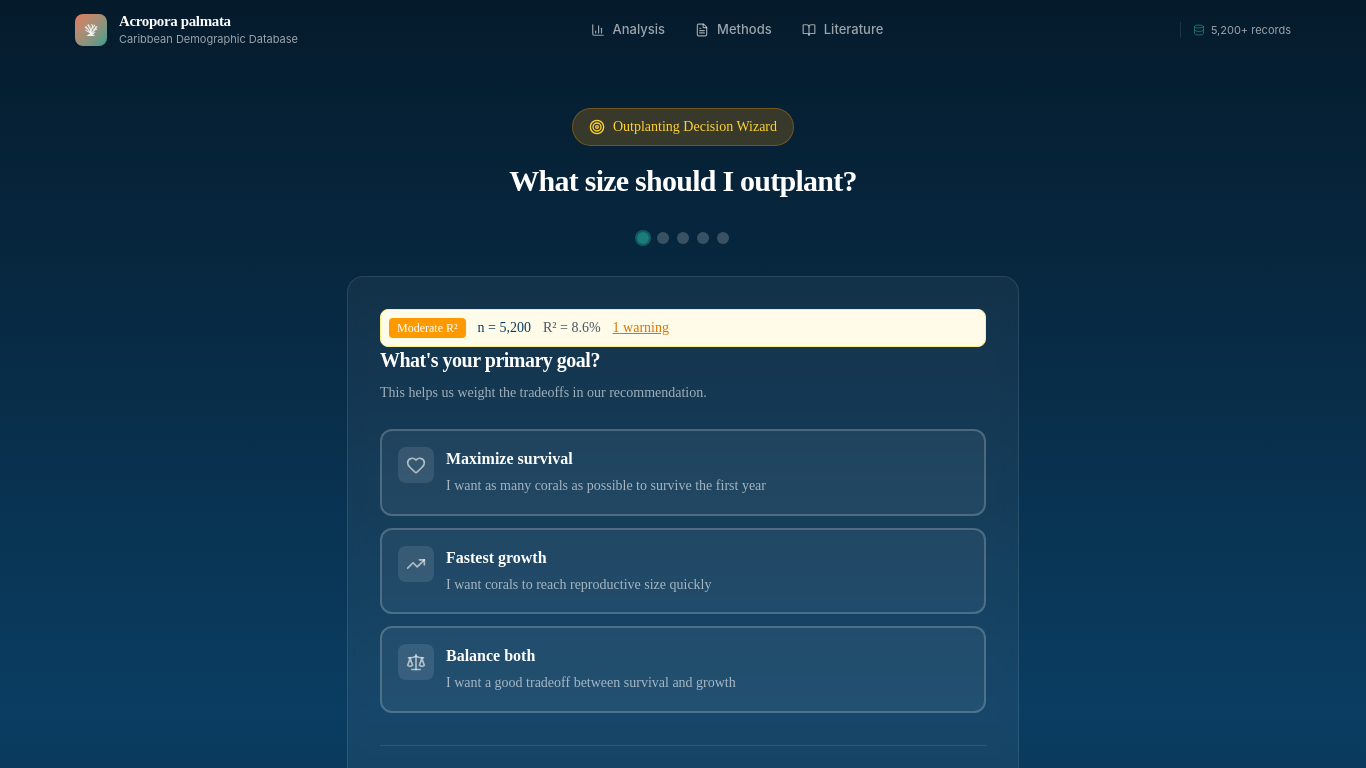
it: OutplantingWizard › navigation › shows back button on steps after first
Expected: the heading "Maximize survival" is shown, top-left (446, 450), bottom-right (573, 467)
// Select goal and advance
Click the button "Maximize survival": [416, 465] box top-left (380, 429), bottom-right (986, 516)
(page scrolled)
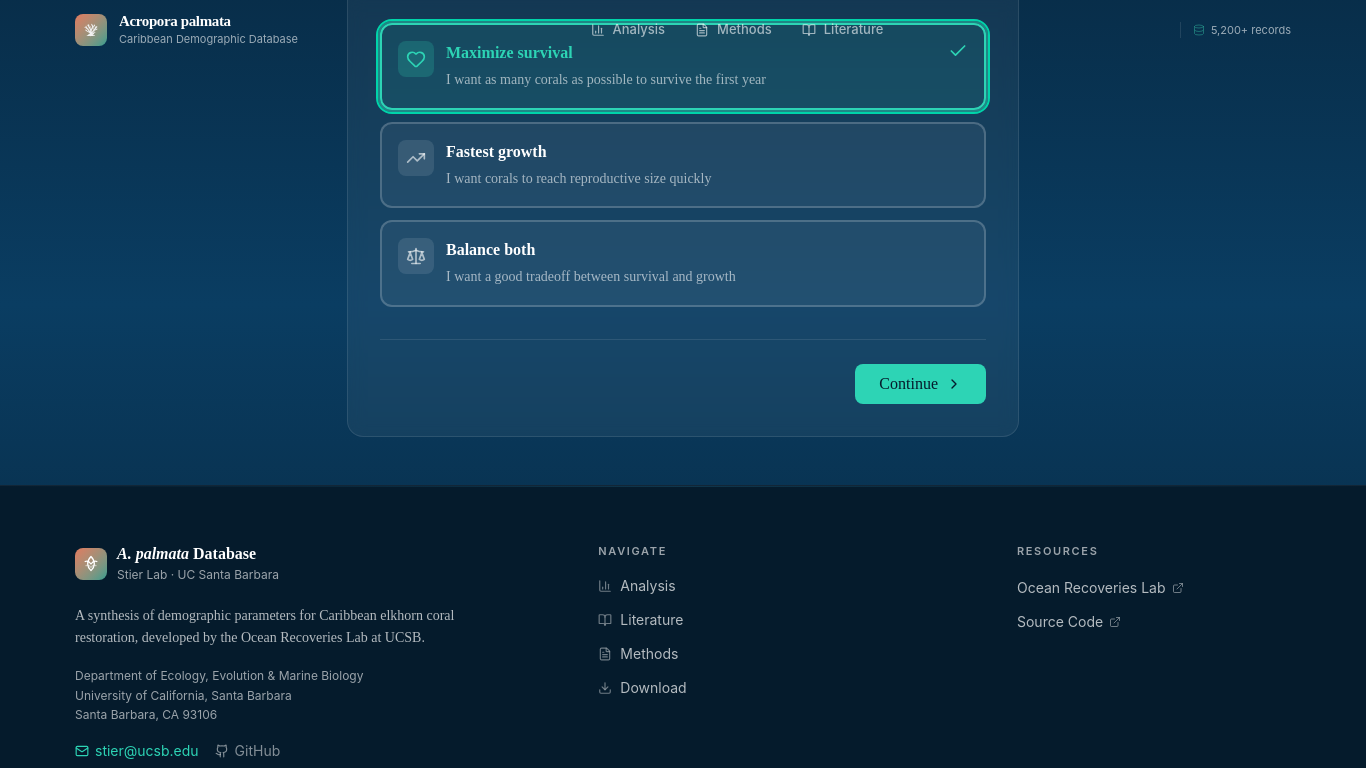
Click the button "Continue": [921, 384] box top-left (855, 364), bottom-right (986, 404)
(page scrolled)
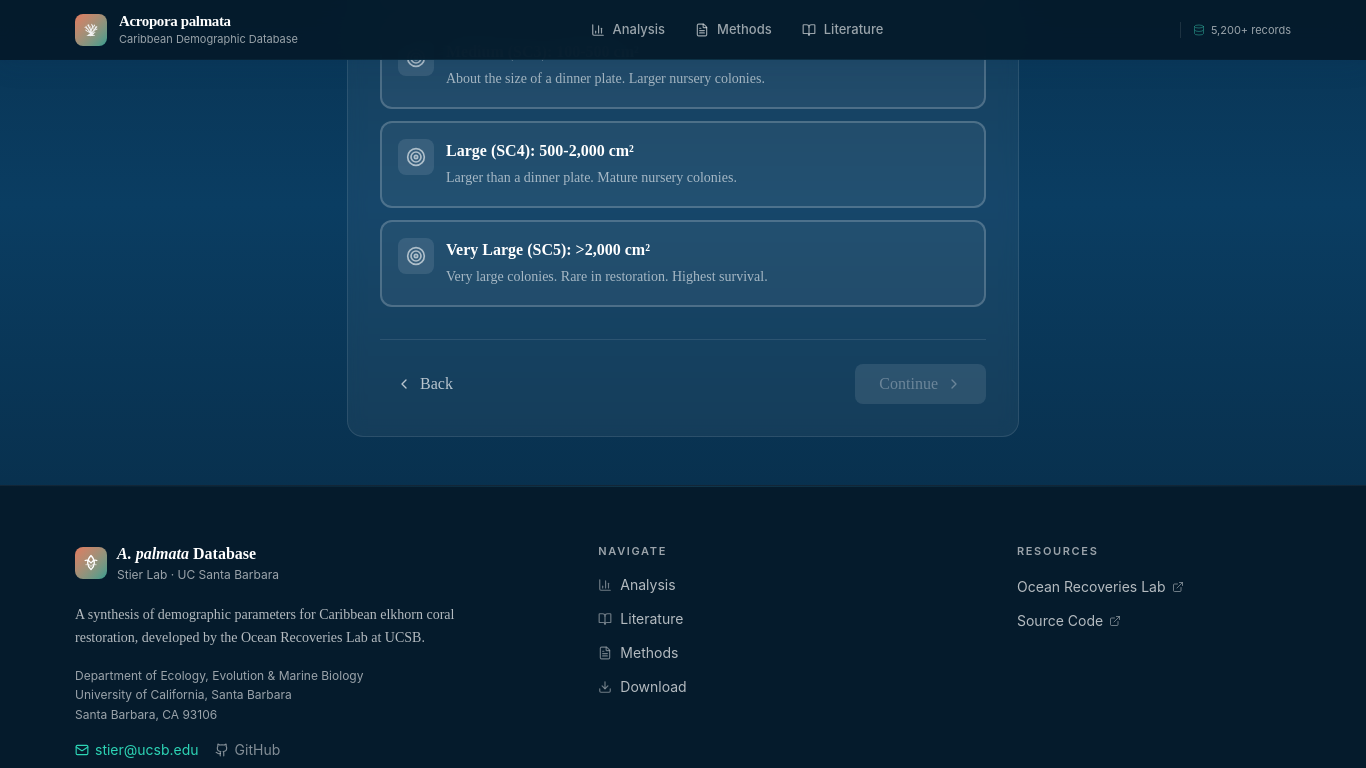
Now the button "Back" is shown, box top-left (380, 364), bottom-right (469, 404)
